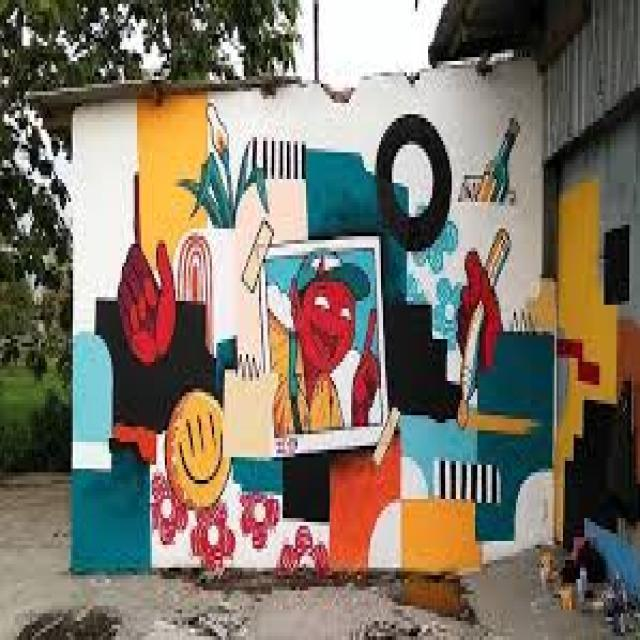-: (71, 100, 599, 580)
